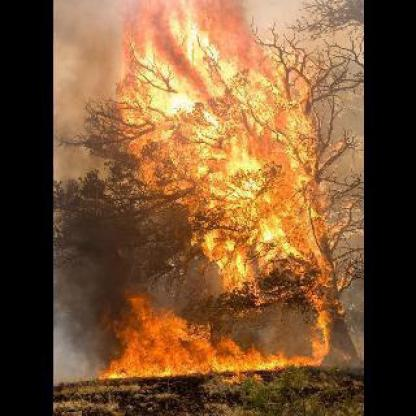fire: (118, 0, 336, 295), (88, 286, 338, 381)
